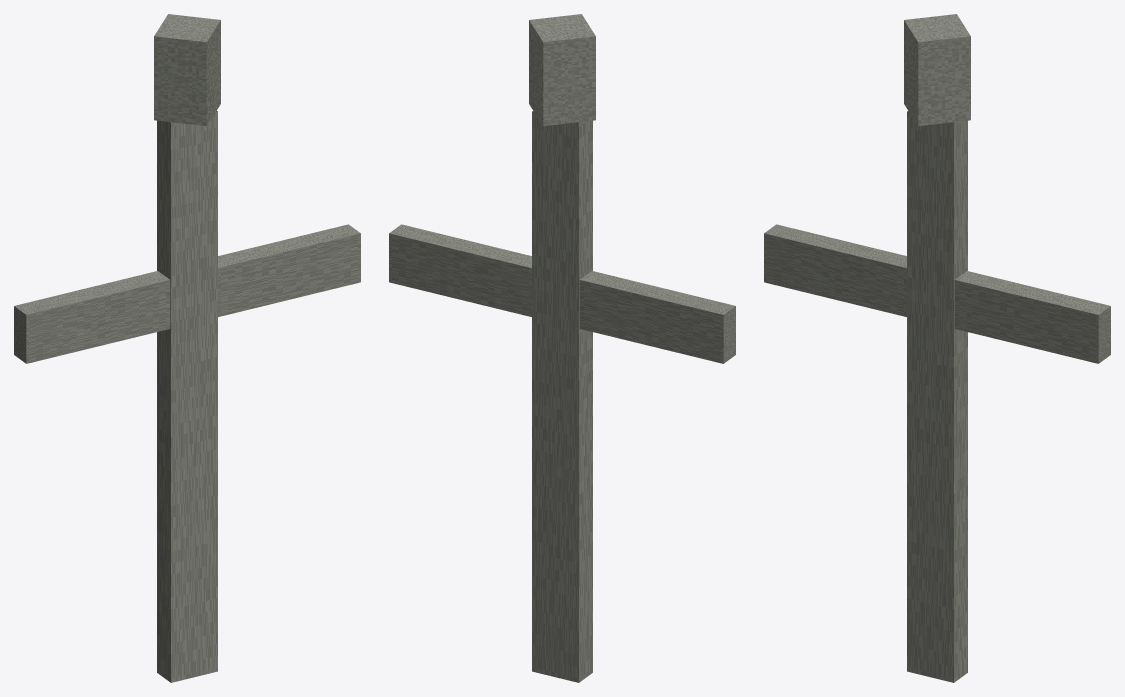
File: charm_crucifix.glb
3 views of the same model, side by side, from view 1: azimuth 30°, elevation 25°; view 2: azimuth 150°, elevation 25°; view 3: azimuth 330°, elevation 25° (orthographic).
Visible parts, largest first — view 1: charm_crucifix; view 2: charm_crucifix; view 3: charm_crucifix.
Boxes of the visible parts, x1=… form: charm_crucifix: x1=14, y1=14, x2=360, y2=682; charm_crucifix: x1=389, y1=14, x2=735, y2=682; charm_crucifix: x1=764, y1=14, x2=1110, y2=682.
Bounding box in the file's own units: 0.025 × 0.046 × 0.005.
1 material, 1 textured.
